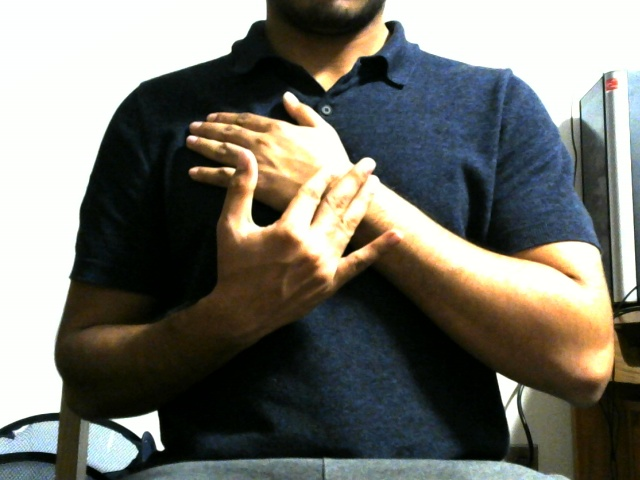blood: (152, 65, 469, 335)
